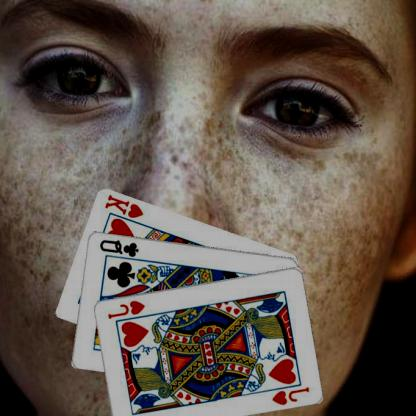JH: (107, 297, 148, 320), (271, 384, 312, 406)
KH: (104, 192, 146, 219)
QC: (99, 237, 141, 258)
